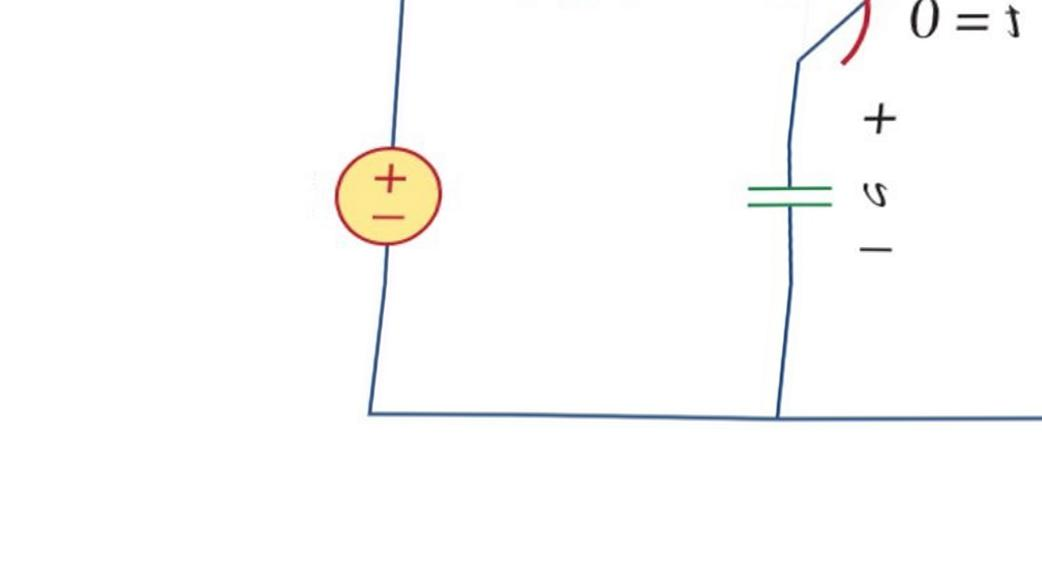Battery: (306, 116, 457, 267)
